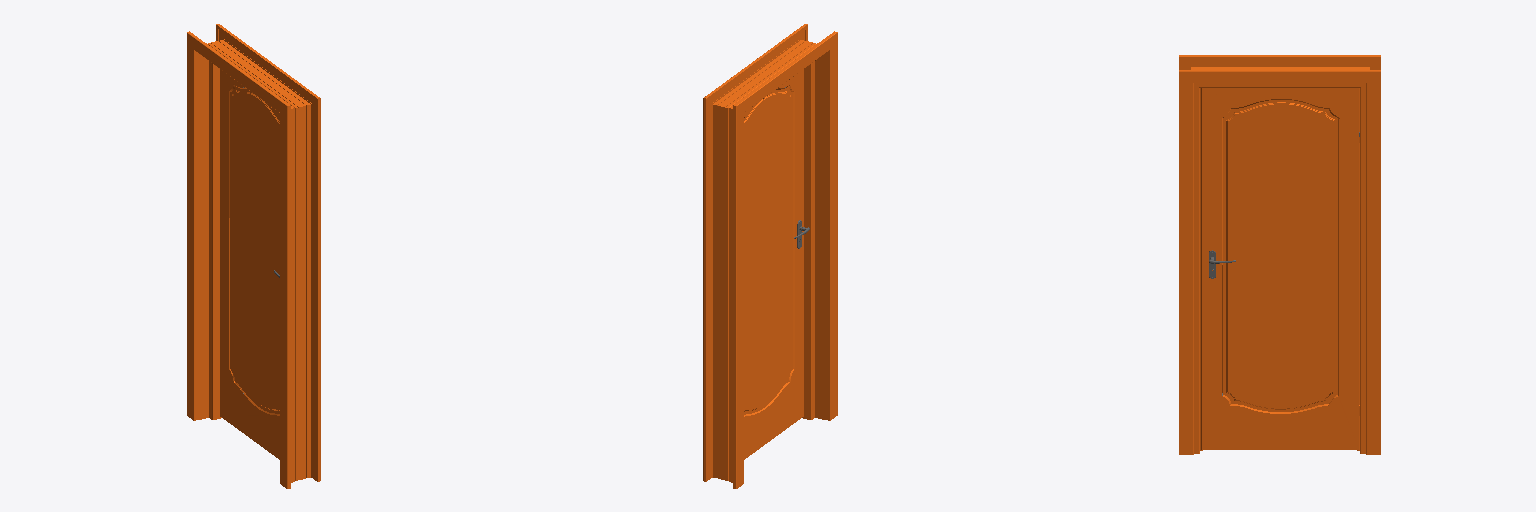
The model's file is door03.obj.
The picture shows the model from 3 angles: view 1: azimuth 30°, elevation 25°; view 2: azimuth 150°, elevation 25°; view 3: azimuth 270°, elevation 25°; orthographic projection.
Parts seen in each view (by area): view 1: Object.15, Object.13, Object.14, Object.3; view 2: Object.15, Object.13, Object.14, Object.5, Object.3; view 3: Object.9, Object.15, Object.14, Object.11, Object.6.
Boxes of the visible parts, box(x1,y1,x2,y2) form: Object.15: box(187, 24, 320, 488); Object.13: box(232, 92, 279, 409); Object.14: box(220, 69, 279, 459); Object.3: box(230, 86, 279, 413); Object.15: box(703, 24, 837, 488); Object.13: box(744, 92, 791, 410); Object.14: box(744, 69, 803, 459); Object.5: box(744, 84, 794, 416); Object.3: box(744, 86, 792, 414); Object.9: box(1228, 104, 1333, 408); Object.15: box(1179, 55, 1380, 454); Object.14: box(1201, 88, 1358, 449); Object.11: box(1223, 100, 1337, 411); Object.6: box(1222, 99, 1339, 413).
Size of the model in its own units: 8.91 by 84.96 by 40.72.